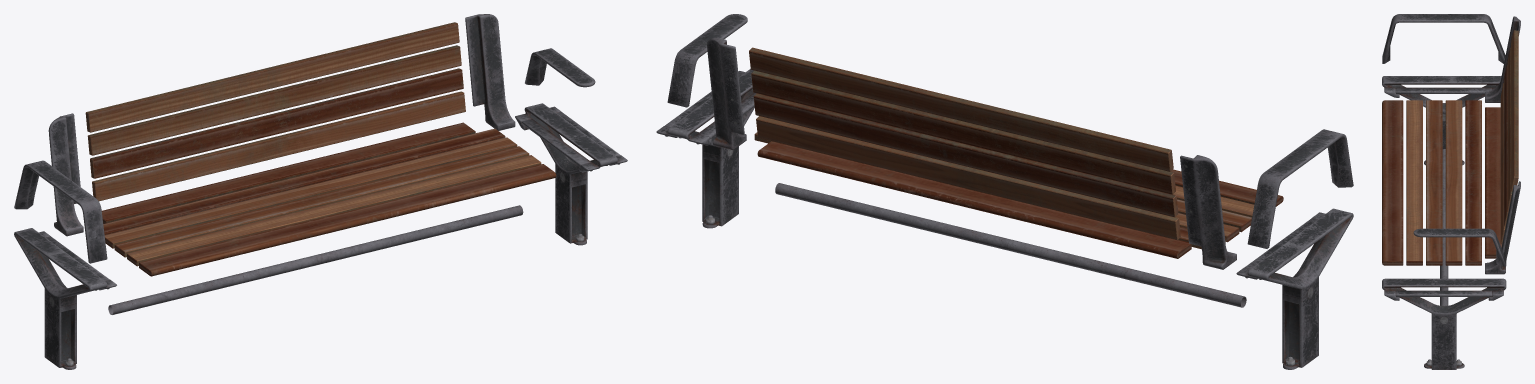
The model's file is seating.glb.
The picture shows the model from 3 angles, left to right: view 1: azimuth 30°, elevation 25°; view 2: azimuth 150°, elevation 25°; view 3: azimuth 270°, elevation 25°; orthographic projection. The views are drawn at different scales.
Visible parts, largest first — view 1: seat_back, seat, legs_double, legs_single, crossbar, back_support_l, arm_rest_01, back_support_r, arm_rest_02; view 2: seat_back, seat, legs_single, crossbar, legs_double, arm_rest_01, back_support_r, back_support_l, arm_rest_02; view 3: seat, legs_double, seat_back, legs_single, arm_rest_01, arm_rest_02, back_support_l, crossbar, back_support_r.
Part boxes in pixels (x1=…): seat_back: x1=85, y1=22, x2=465, y2=201; seat: x1=101, y1=122, x2=556, y2=276; legs_double: x1=515, y1=103, x2=627, y2=245; legs_single: x1=14, y1=228, x2=116, y2=369; crossbar: x1=108, y1=205, x2=523, y2=314; back_support_l: x1=465, y1=14, x2=515, y2=130; arm_rest_01: x1=14, y1=160, x2=107, y2=263; back_support_r: x1=48, y1=113, x2=83, y2=236; arm_rest_02: x1=525, y1=48, x2=595, y2=87; seat_back: x1=749, y1=47, x2=1180, y2=239; seat: x1=754, y1=132, x2=1283, y2=258; legs_single: x1=1236, y1=208, x2=1353, y2=369; crossbar: x1=775, y1=183, x2=1246, y2=307; legs_double: x1=656, y1=69, x2=756, y2=228; arm_rest_01: x1=1247, y1=129, x2=1353, y2=248; back_support_r: x1=1180, y1=155, x2=1236, y2=269; back_support_l: x1=707, y1=37, x2=746, y2=150; arm_rest_02: x1=667, y1=14, x2=747, y2=107; seat: x1=1382, y1=100, x2=1501, y2=265; legs_double: x1=1382, y1=278, x2=1506, y2=369; seat_back: x1=1500, y1=30, x2=1518, y2=243; legs_single: x1=1382, y1=76, x2=1501, y2=165; arm_rest_01: x1=1382, y1=14, x2=1505, y2=63; arm_rest_02: x1=1413, y1=228, x2=1506, y2=266; back_support_l: x1=1485, y1=181, x2=1520, y2=274; crossbar: x1=1440, y1=149, x2=1448, y2=305; back_support_r: x1=1485, y1=16, x2=1520, y2=102.
Size of the model in its own units: 2.45 by 0.8669 by 0.6704.
Materials: 4 (4 with a texture image).
